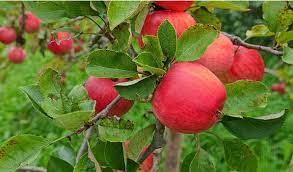Apple: (152, 61, 226, 133), (82, 71, 135, 118), (138, 10, 197, 49), (189, 30, 233, 78), (227, 43, 264, 83), (121, 138, 154, 172), (47, 29, 71, 55), (18, 10, 40, 32), (8, 46, 26, 64), (154, 2, 198, 9), (0, 24, 15, 43), (271, 78, 286, 95)
